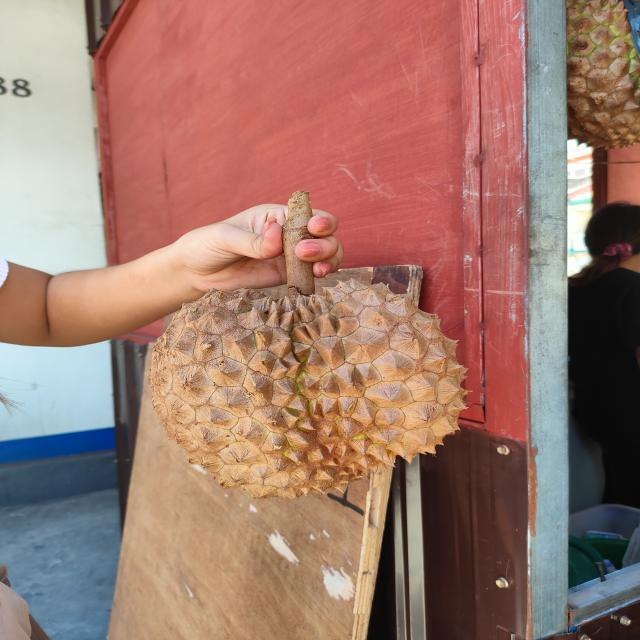mature: (147, 277, 473, 500)
